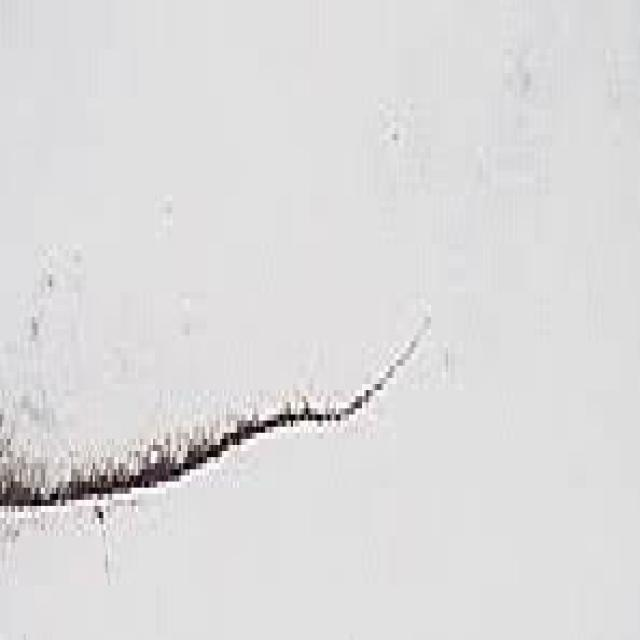crack: (3, 331, 447, 538)
